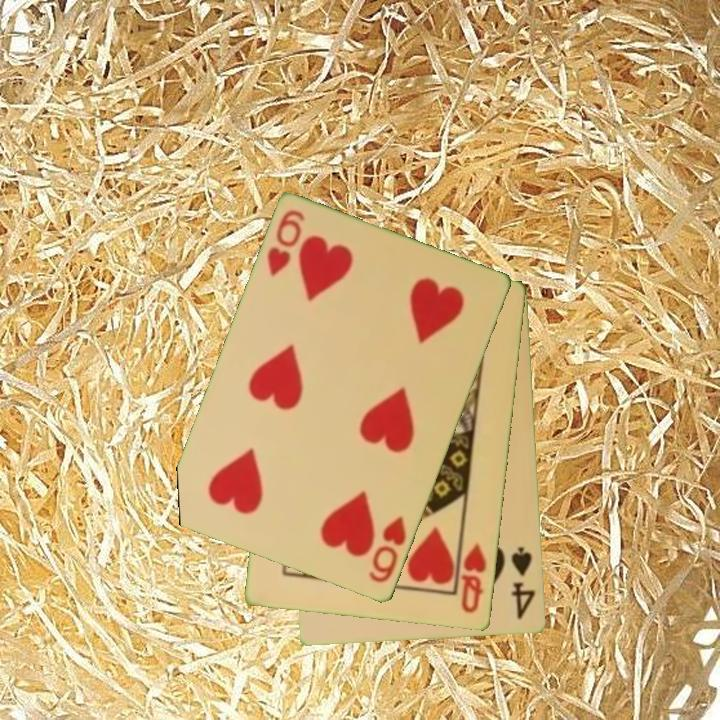4s: (508, 543, 539, 623)
6h: (365, 512, 410, 587), (263, 207, 308, 280)
Qh: (458, 539, 490, 617)
